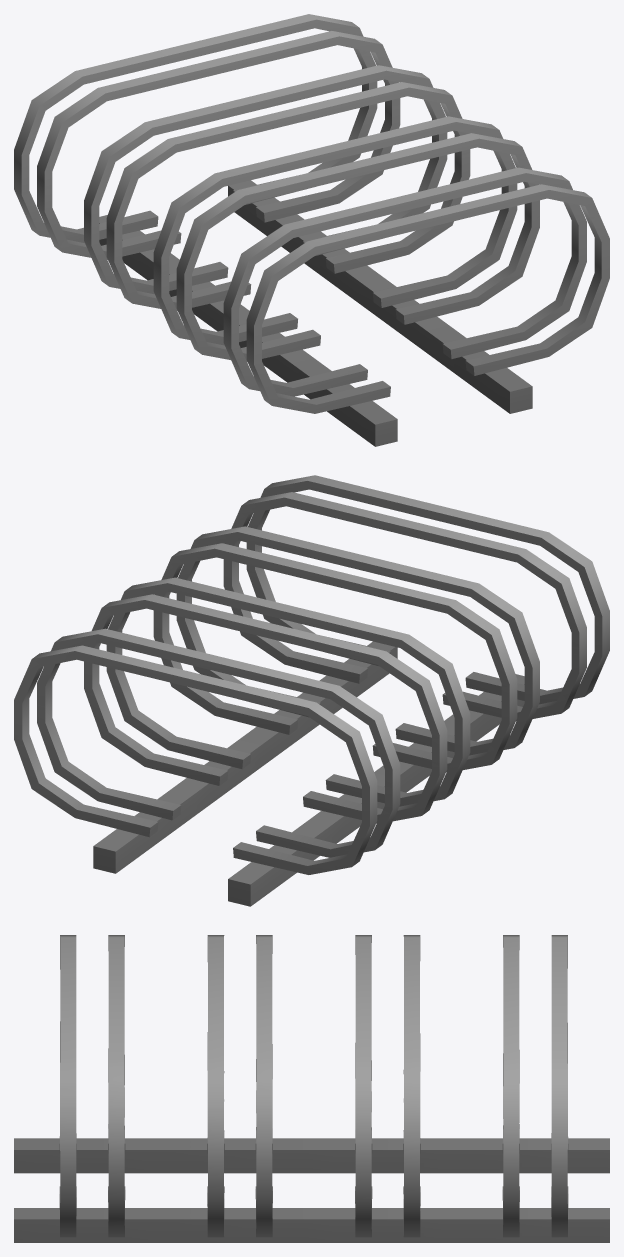
File: Bike_Rack.glb
3 renders of one model, top to bottom at view 1: azimuth 30°, elevation 25°; view 2: azimuth 150°, elevation 25°; view 3: azimuth 270°, elevation 25°, orthographic. The views are drawn at different scales.
Visible parts, largest first — view 1: bike_rack; view 2: bike_rack; view 3: bike_rack.
Part boxes in pixels (x1=…): bike_rack: x1=14, y1=14, x2=609, y2=446; bike_rack: x1=14, y1=475, x2=609, y2=906; bike_rack: x1=14, y1=935, x2=609, y2=1242.
Bounding box in the file's own units: 1.93 × 1 × 2.64.
1 material, 1 textured.
